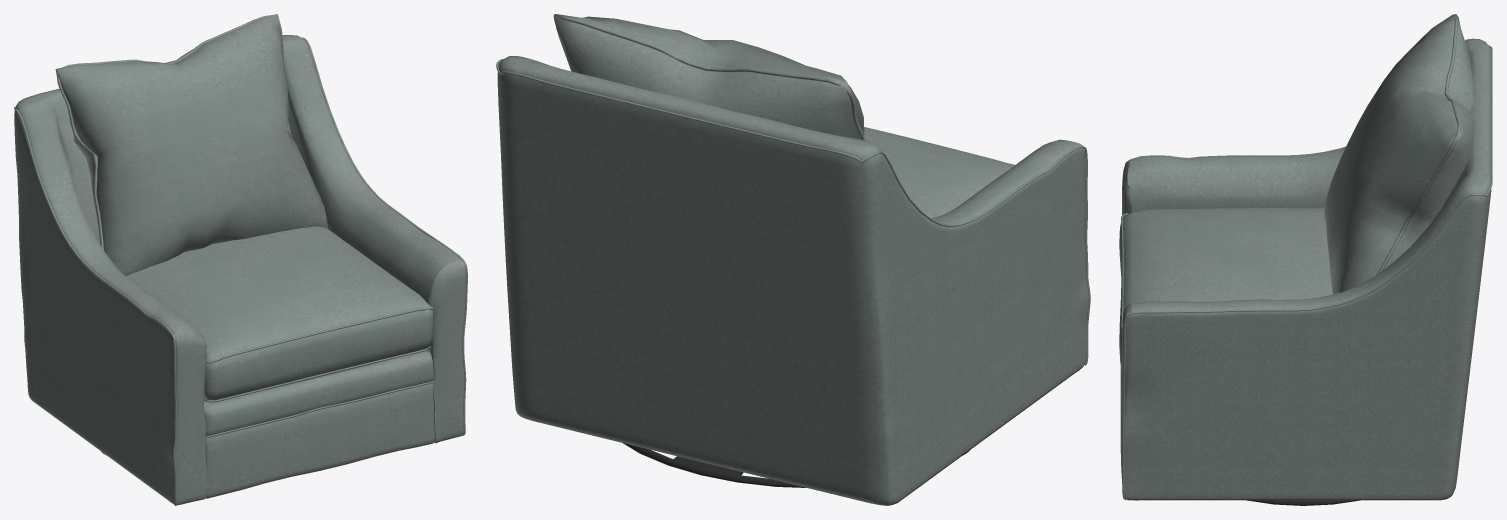
Rendered from abo-B075X33RZK.glb.
3 renders of one model, left to right at view 1: azimuth 30°, elevation 25°; view 2: azimuth 150°, elevation 25°; view 3: azimuth 270°, elevation 25°, orthographic. The views are drawn at different scales.
Size of the model in its own units: 0.87 by 0.926 by 0.87.
1 material, 1 textured.
